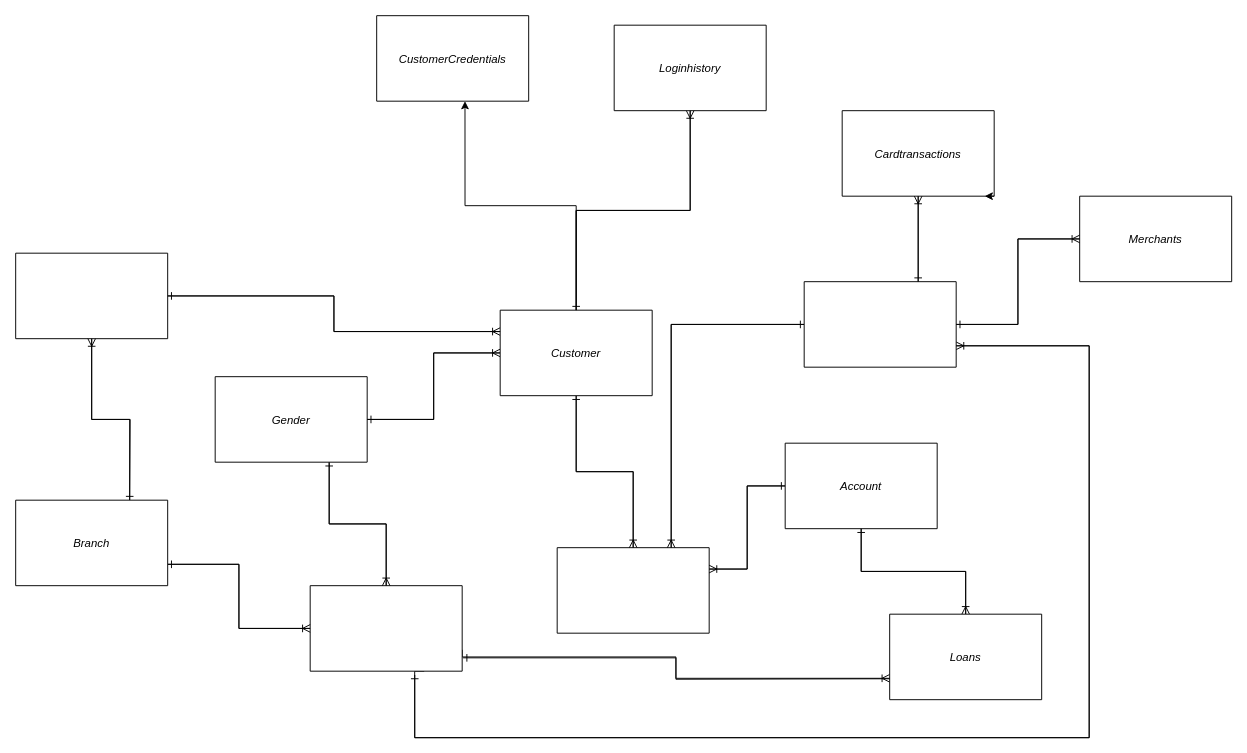
The diagram is 1247 pixels wide and 753 high, and some of its shapes have lost their labels. Each missing label, with the centre of its shape:
Address: (91,295)
Card: (879,324)
Dispositions: (632,590)
Employees: (385,628)
